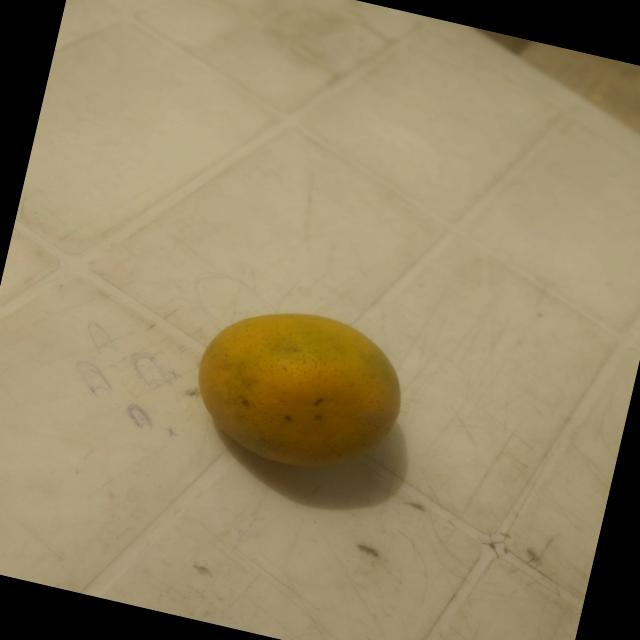agrume: (146, 263, 444, 507)
